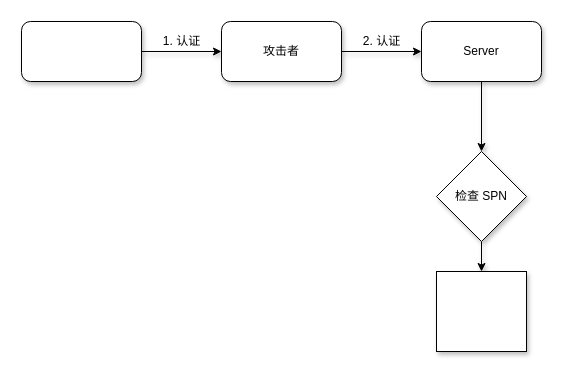
This 565x376 diagram has some shape labels left out. The centre of each missing label's shape, as x and y in pixels:
"Client" belongs at (x=82, y=52).
"判断 SPN 不是 server的，检查失败" belongs at (x=482, y=312).
